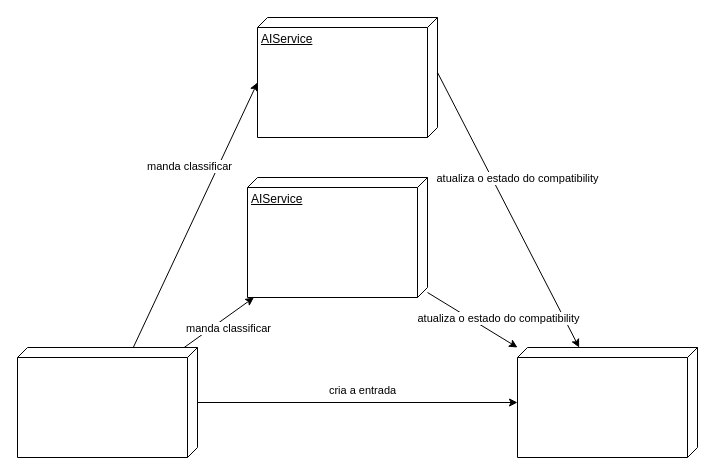
This 715x475 diagram has some shape labels left out. Each missing label, with the centre of its shape:
"CompatibilityService" belongs at point (607, 402).
"ImageService" belongs at point (107, 402).
